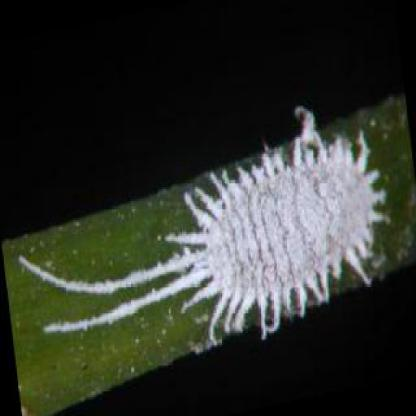mealy bug: (16, 138, 380, 341)
